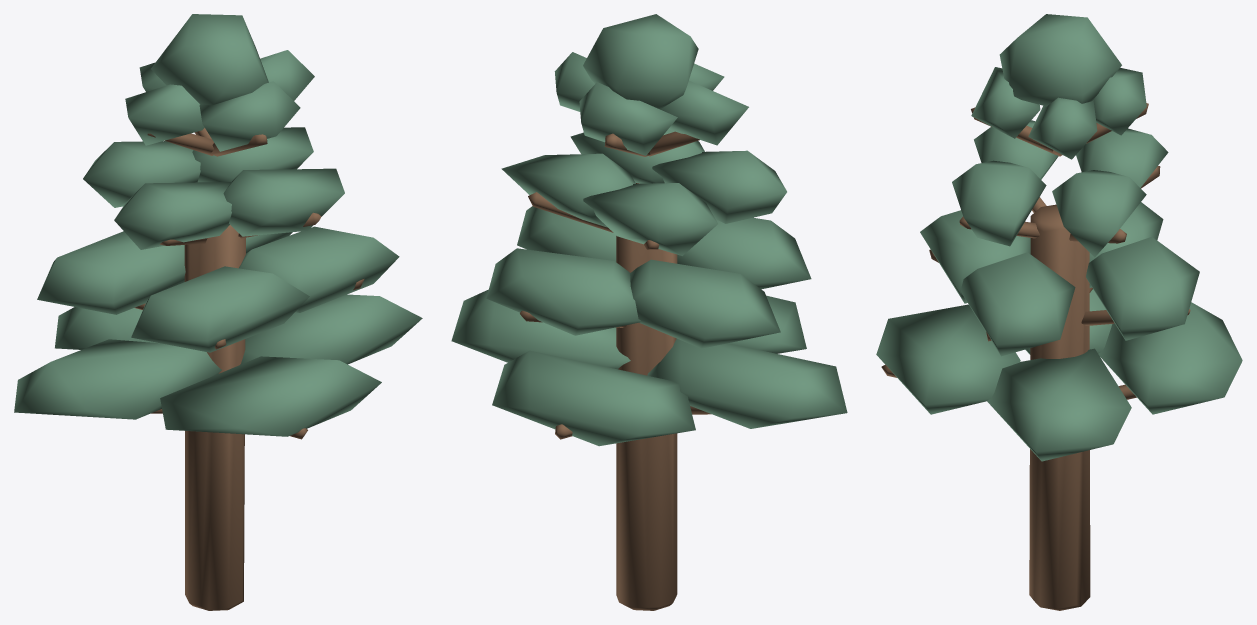
The model's file is org_metasequoia.glb.
The picture shows the model from 3 angles, left to right: view 1: azimuth 30°, elevation 25°; view 2: azimuth 150°, elevation 25°; view 3: azimuth 270°, elevation 25°; orthographic projection.
Visible parts, largest first — view 1: Foliage, Trunk; view 2: Foliage, Trunk; view 3: Foliage, Trunk.
Boxes of the visible parts, x1,y1,x2,y2 form: Foliage: [14, 14, 422, 436]; Trunk: [134, 128, 364, 610]; Foliage: [451, 14, 847, 446]; Trunk: [520, 131, 711, 610]; Foliage: [876, 14, 1242, 461]; Trunk: [881, 103, 1190, 610].
Bounding box in the file's own units: 1.79 × 2.49 × 1.43.
